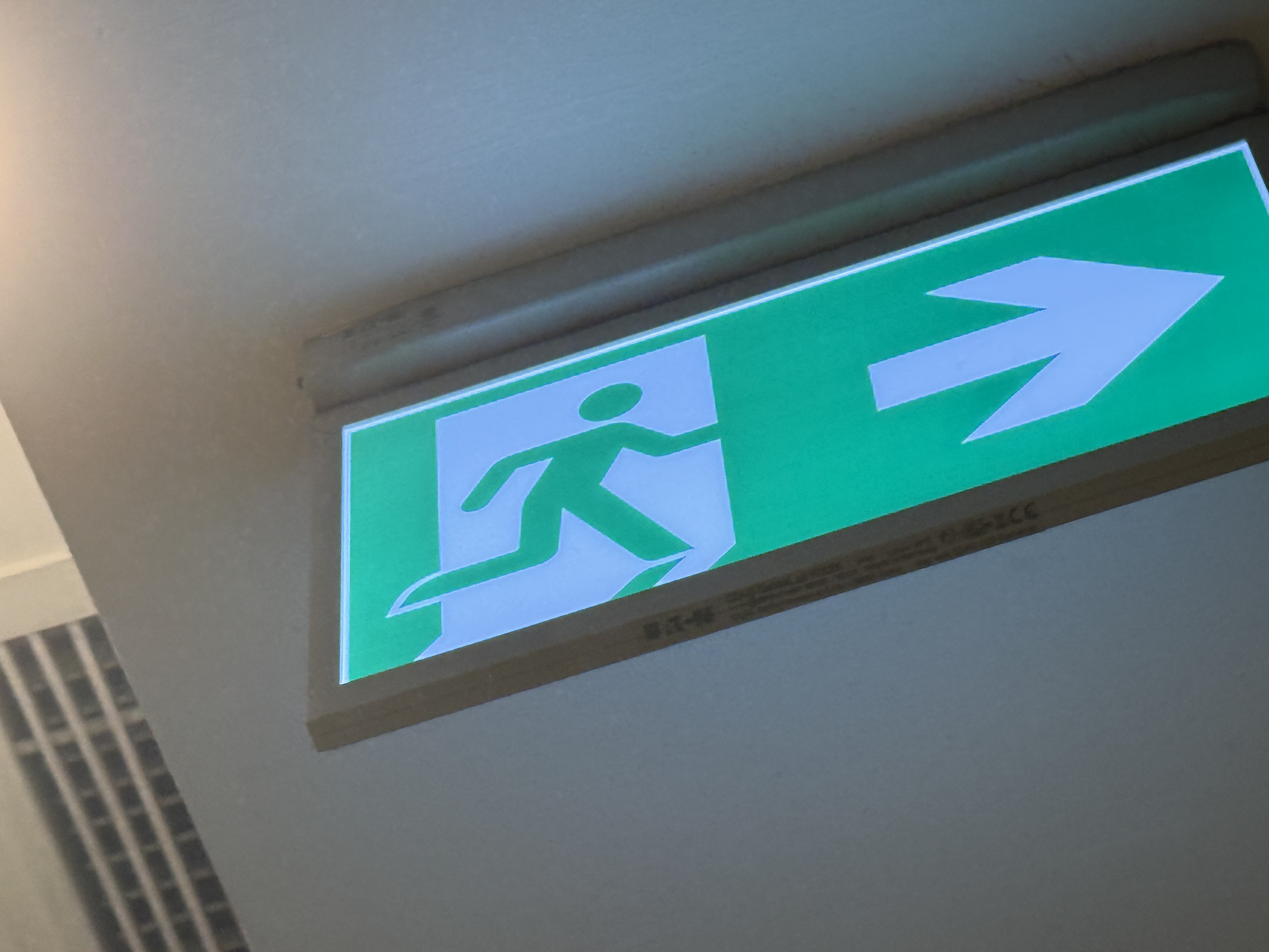emergency_exit: (331, 136, 1267, 709)
